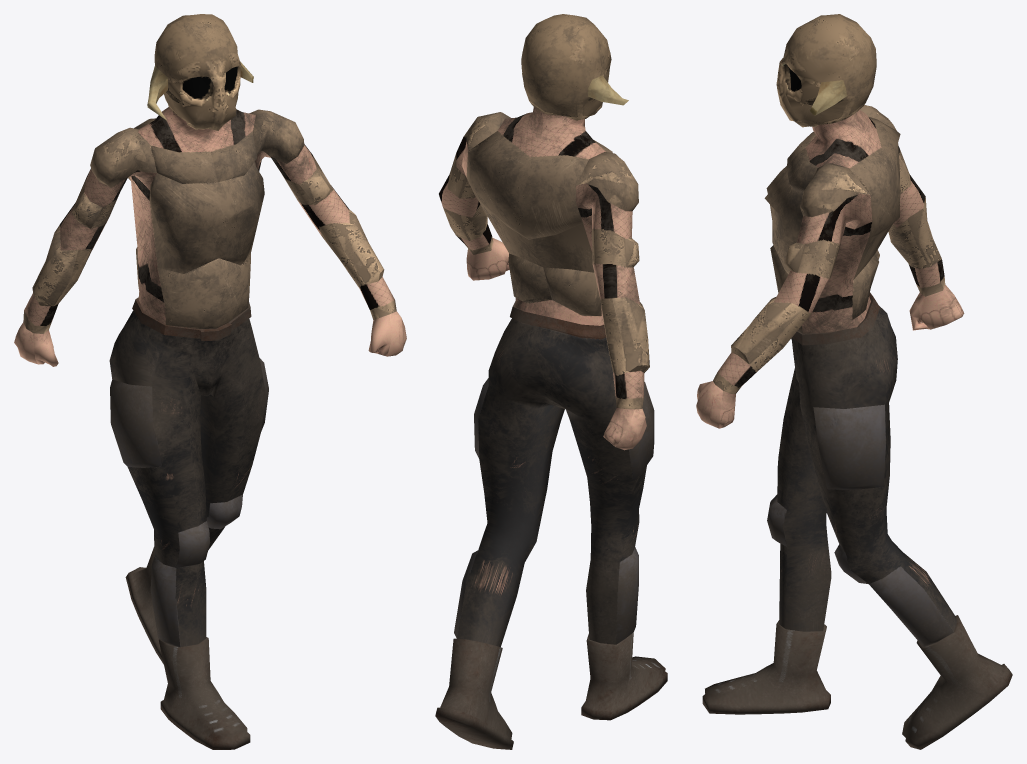
The model's file is Anim_andar_npc1.0027.obj.
3 views of the same model, side by side, from view 1: azimuth 30°, elevation 25°; view 2: azimuth 150°, elevation 25°; view 3: azimuth 270°, elevation 25° (orthographic). The views are drawn at different scales.
Visible parts, largest first — view 1: Anim_andar_npc1; view 2: Anim_andar_npc1; view 3: Anim_andar_npc1.
Boxes of the visible parts, x1=… form: Anim_andar_npc1: x1=14, y1=14, x2=406, y2=749; Anim_andar_npc1: x1=435, y1=14, x2=667, y2=749; Anim_andar_npc1: x1=696, y1=14, x2=1012, y2=749.
Size of the model in its own units: 4.09 by 9.75 by 3.93.
